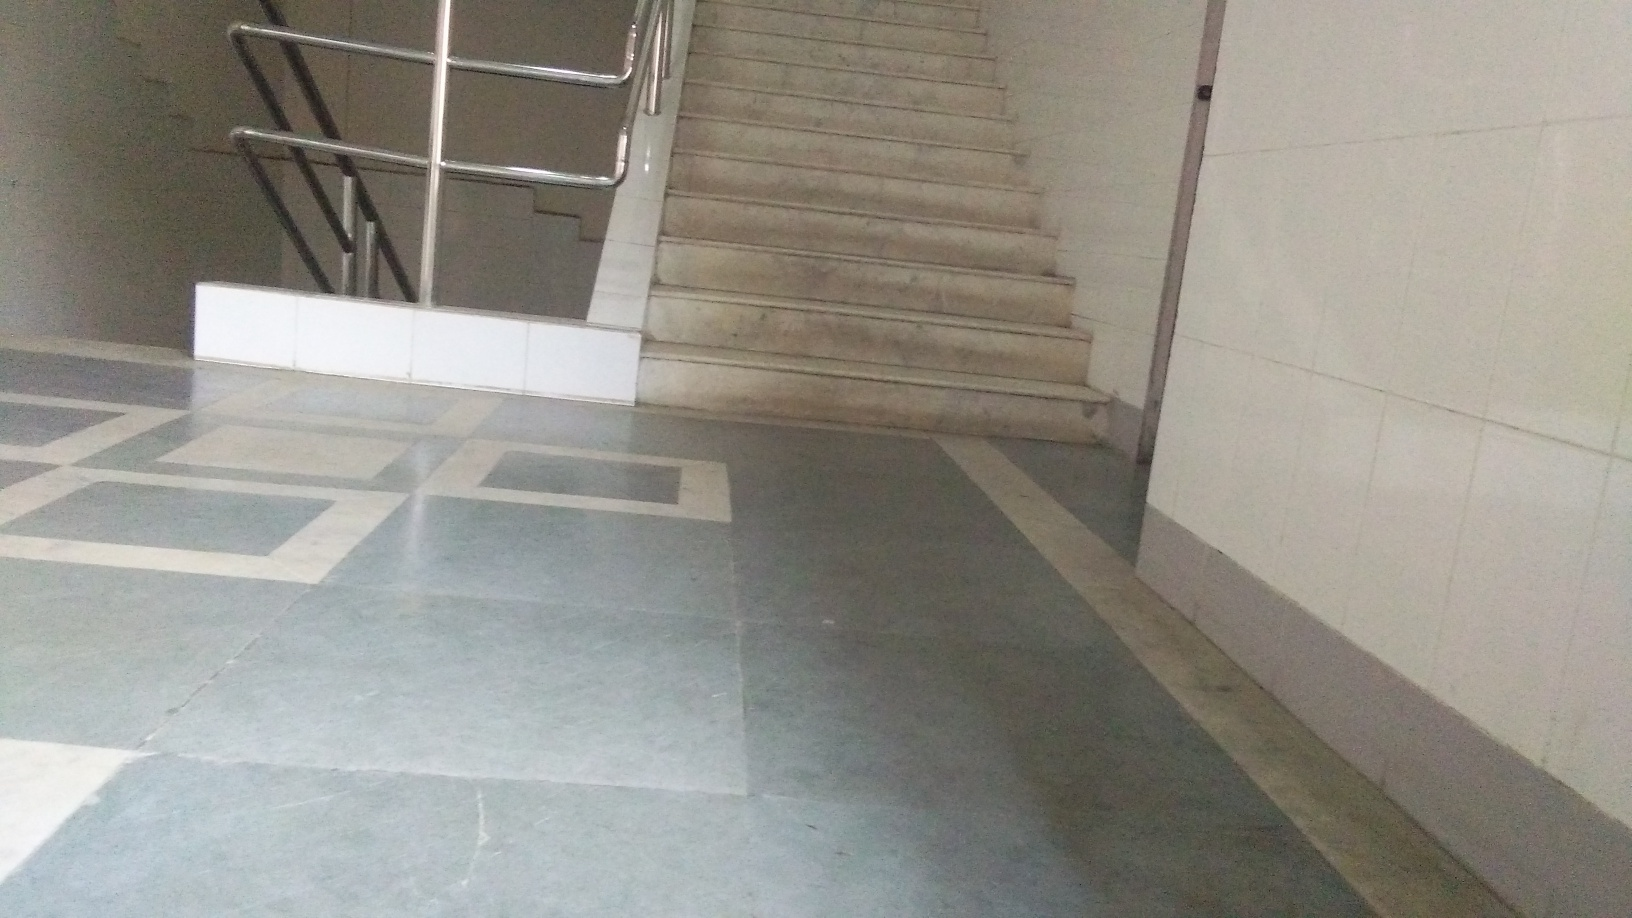stairs_up: (645, 1, 1130, 481)
